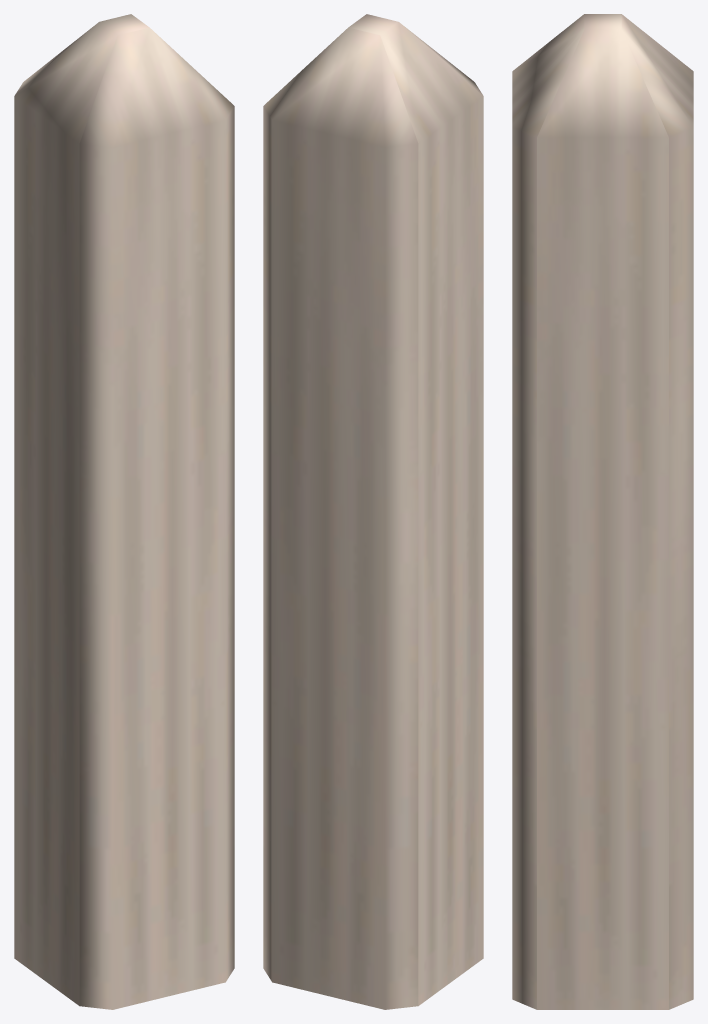
File: PicketWoodFencePostHand.fbx
3 views of the same model, side by side, from view 1: azimuth 30°, elevation 25°; view 2: azimuth 150°, elevation 25°; view 3: azimuth 270°, elevation 25° (orthographic).
Parts seen in each view (by area): view 1: FencePost; view 2: FencePost; view 3: FencePost.
Boxes of the visible parts, x1=… form: FencePost: x1=14, y1=14, x2=234, y2=1009; FencePost: x1=263, y1=14, x2=483, y2=1009; FencePost: x1=512, y1=14, x2=693, y2=1009.
Bounding box in the file's own units: 0.164 × 0.9484 × 0.164.
